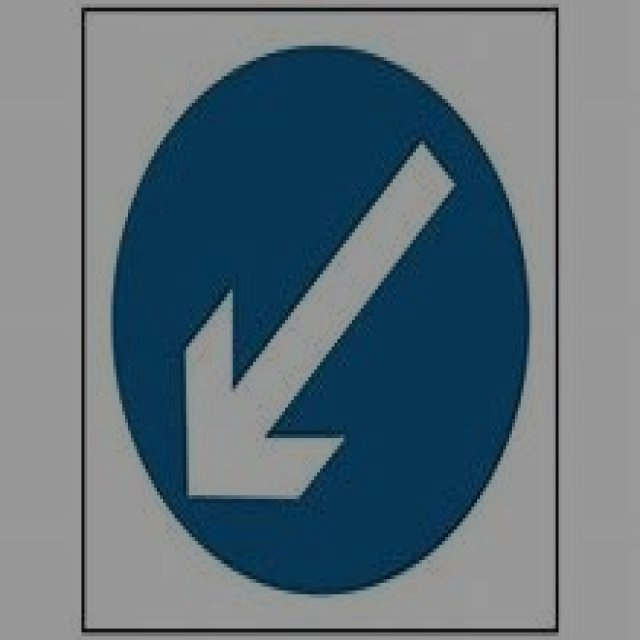R.301e: (105, 38, 539, 598)
